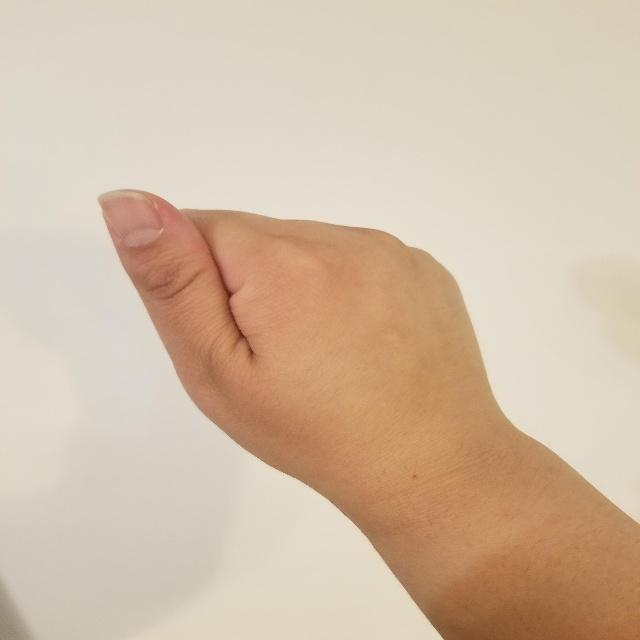A: (87, 180, 498, 511)
